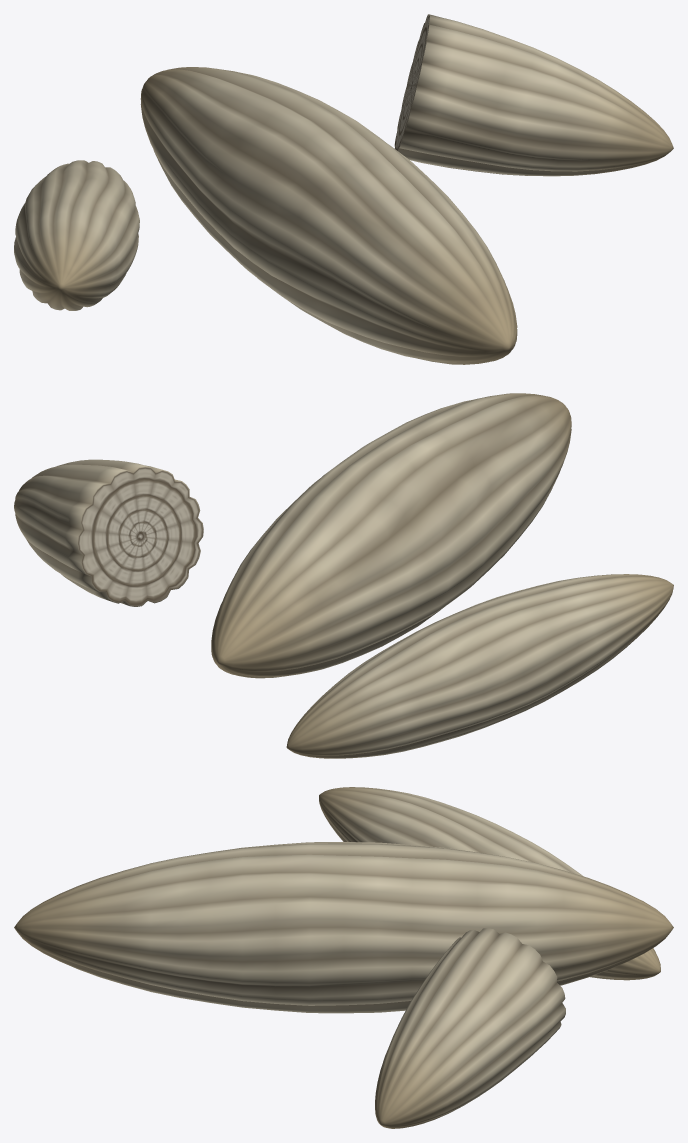
File: SchwagerinaGuembeli.fbx
3 renders of one model, top to bottom at view 1: azimuth 30°, elevation 25°; view 2: azimuth 150°, elevation 25°; view 3: azimuth 270°, elevation 25°, orthographic. The views are drawn at different scales.
Visible parts, largest first — view 1: SchwagerinaGuembeli; view 2: SchwagerinaGuembeli; view 3: SchwagerinaGuembeli.
Part boxes in pixels (x1,y1,x2,y2): SchwagerinaGuembeli: [14, 14, 673, 364]; SchwagerinaGuembeli: [14, 393, 673, 758]; SchwagerinaGuembeli: [14, 787, 673, 1128].
Bounding box in the file's own units: 1.51 × 0.4204 × 1.45.
